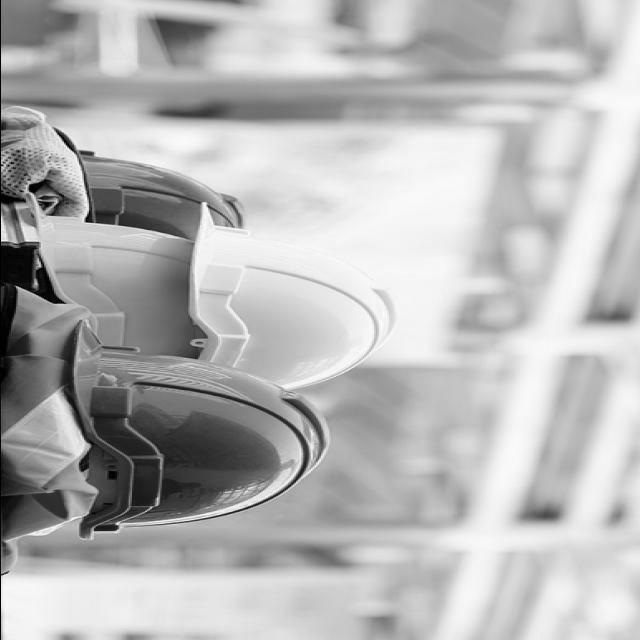construction helmet: (71, 330, 328, 535), (189, 215, 396, 389)
